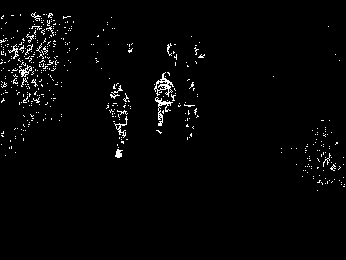person: (105, 82, 138, 163), (155, 69, 177, 134)
